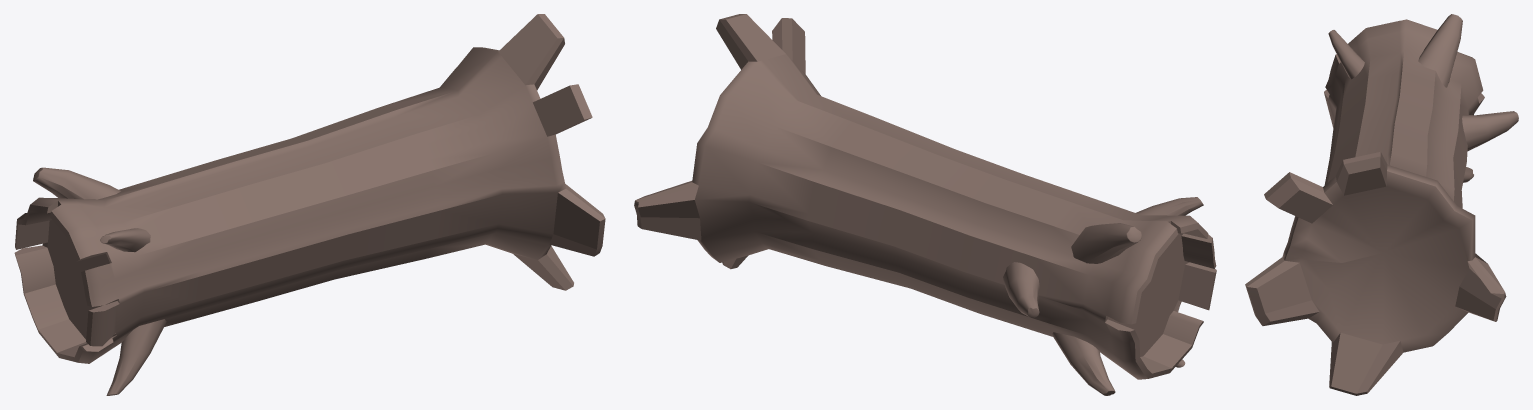
The model's file is wood.fbx.
The picture shows the model from 3 angles, left to right: view 1: azimuth 30°, elevation 25°; view 2: azimuth 150°, elevation 25°; view 3: azimuth 270°, elevation 25°; orthographic projection. The views are drawn at different scales.
Parts seen in each view (by area): view 1: group1_pCylinder1; view 2: group1_pCylinder1; view 3: group1_pCylinder1.
Part boxes in pixels (x1,y1,x2,y2): group1_pCylinder1: (14, 14, 605, 395); group1_pCylinder1: (634, 14, 1216, 395); group1_pCylinder1: (1245, 14, 1518, 395).
Size of the model in its own units: 4.34 by 2.16 by 2.22.
